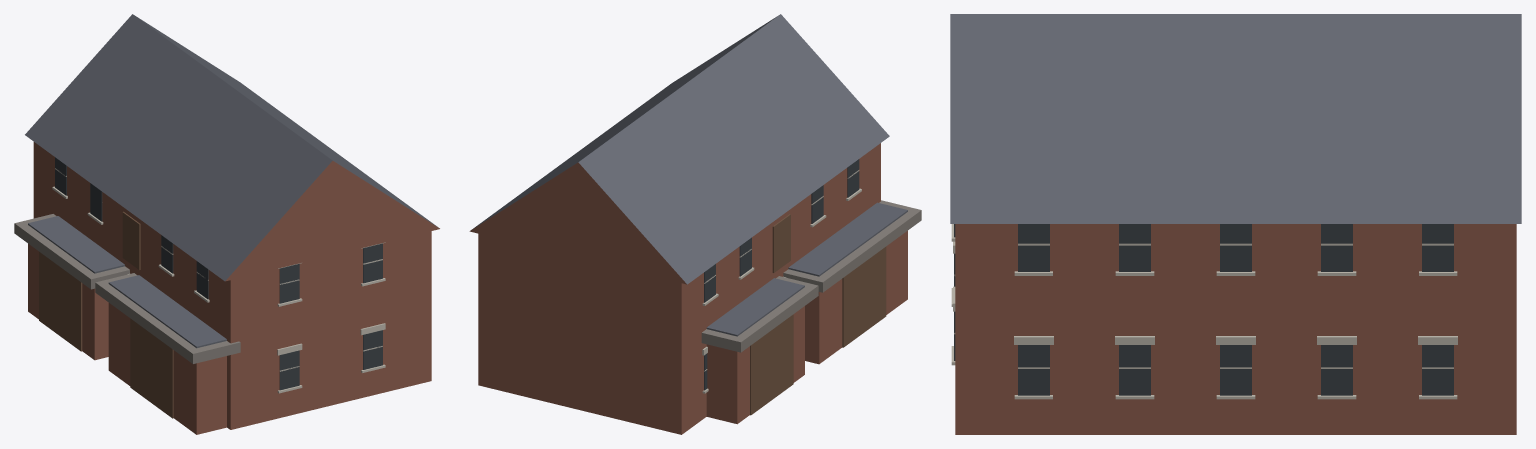
Rendered from house_1836_calumet_coach_house__draft_1904.glb.
3 renders of one model, left to right at view 1: azimuth 30°, elevation 25°; view 2: azimuth 150°, elevation 25°; view 3: azimuth 270°, elevation 25°, orthographic. The views are drawn at different scales.
Visible parts, largest first — view 1: house_1836_calumet_coach_house__draft_1904; view 2: house_1836_calumet_coach_house__draft_1904; view 3: house_1836_calumet_coach_house__draft_1904.
Part boxes in pixels (bbox=[...]): house_1836_calumet_coach_house__draft_1904: bbox=[14, 14, 439, 434]; house_1836_calumet_coach_house__draft_1904: bbox=[469, 14, 921, 434]; house_1836_calumet_coach_house__draft_1904: bbox=[950, 14, 1521, 434].
Size of the model in its own units: 10.15 by 9.66 by 14.24.
